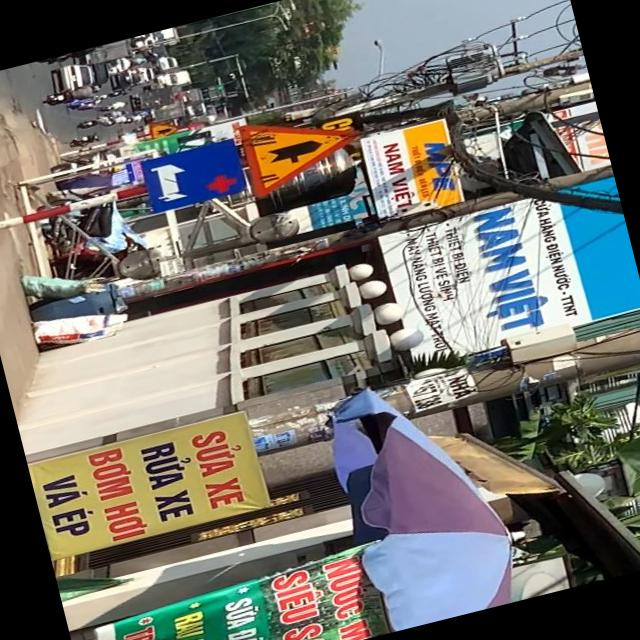I-425: (140, 137, 248, 215)
W-207b: (236, 97, 364, 195)
